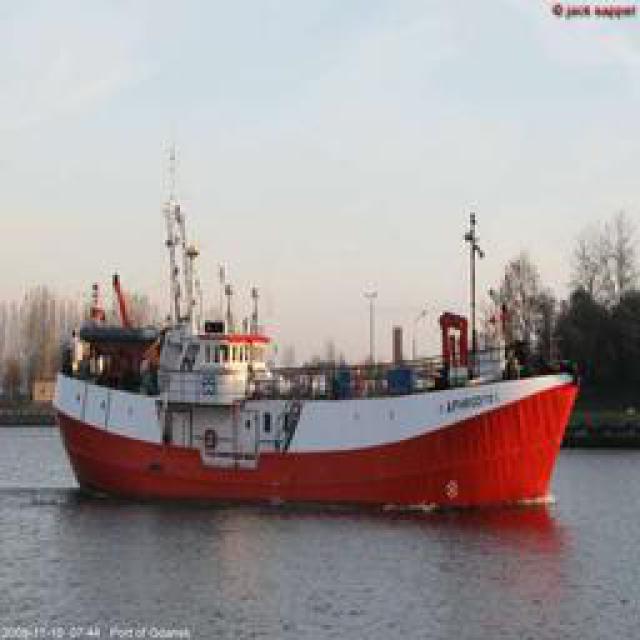Ship: (49, 296, 594, 514)
